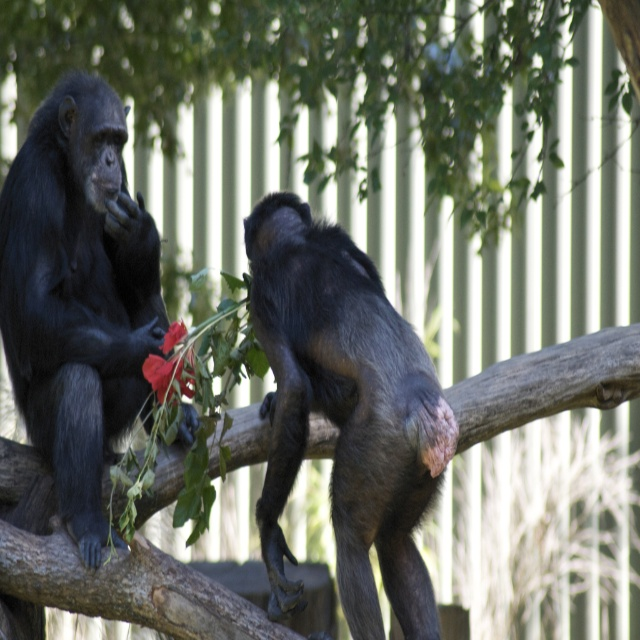Monkey: (0, 67, 199, 573), (243, 191, 460, 640)
